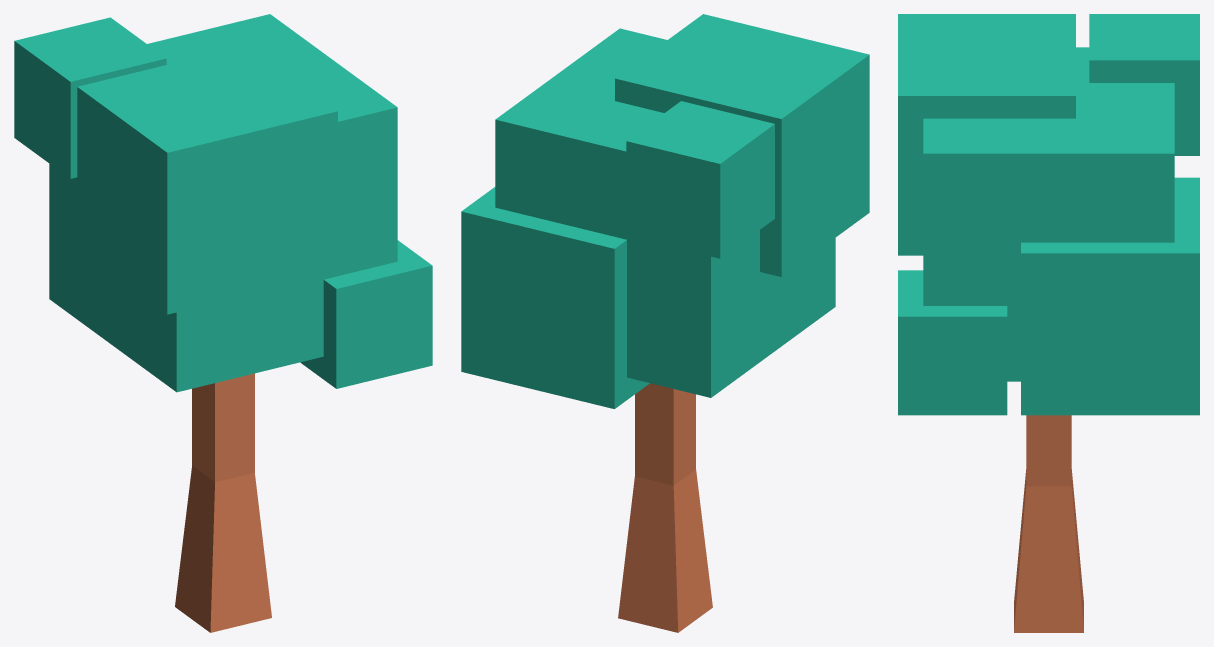
File: tree_blocks.dae
The picture shows the model from 3 angles, left to right: view 1: azimuth 30°, elevation 25°; view 2: azimuth 150°, elevation 25°; view 3: azimuth 270°, elevation 25°; orthographic projection. The views are drawn at different scales.
Parts seen in each view (by area): view 1: tree_blocks; view 2: tree_blocks; view 3: tree_blocks.
Boxes of the visible parts, x1,y1,x2,y2 form: tree_blocks: [14, 14, 432, 632]; tree_blocks: [461, 14, 869, 632]; tree_blocks: [898, 14, 1199, 632].
Size of the model in its own units: 0.6 by 1.18 by 0.6.
